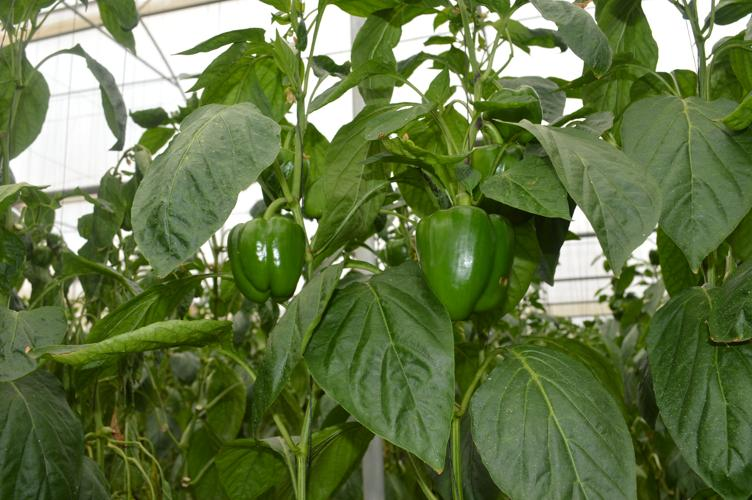BellPepper: (409, 201, 514, 325), (223, 217, 310, 307)
